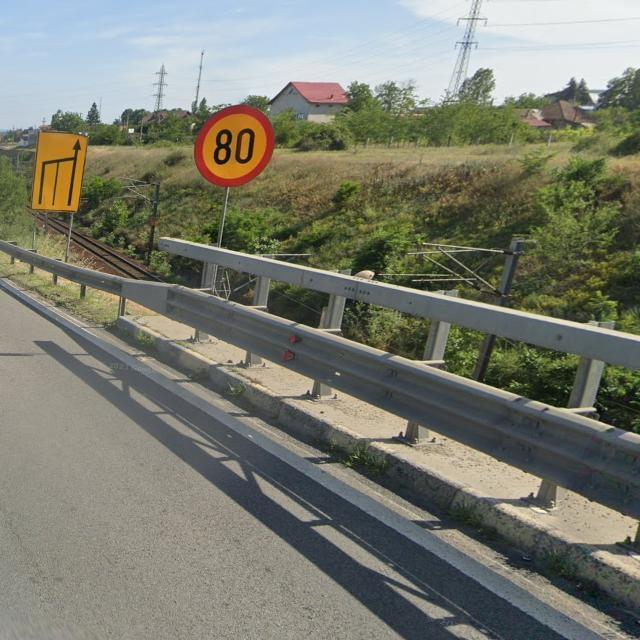forb_speed_over_80: (194, 104, 275, 188)
